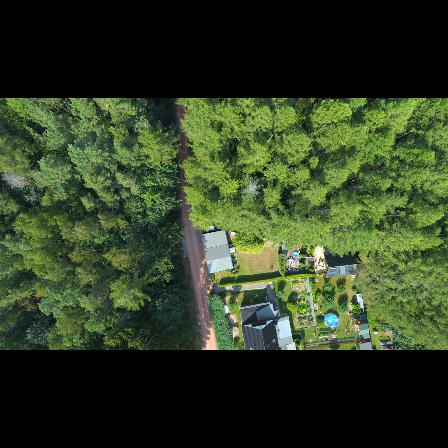Dead: (238, 177, 266, 200), (3, 170, 30, 189)
